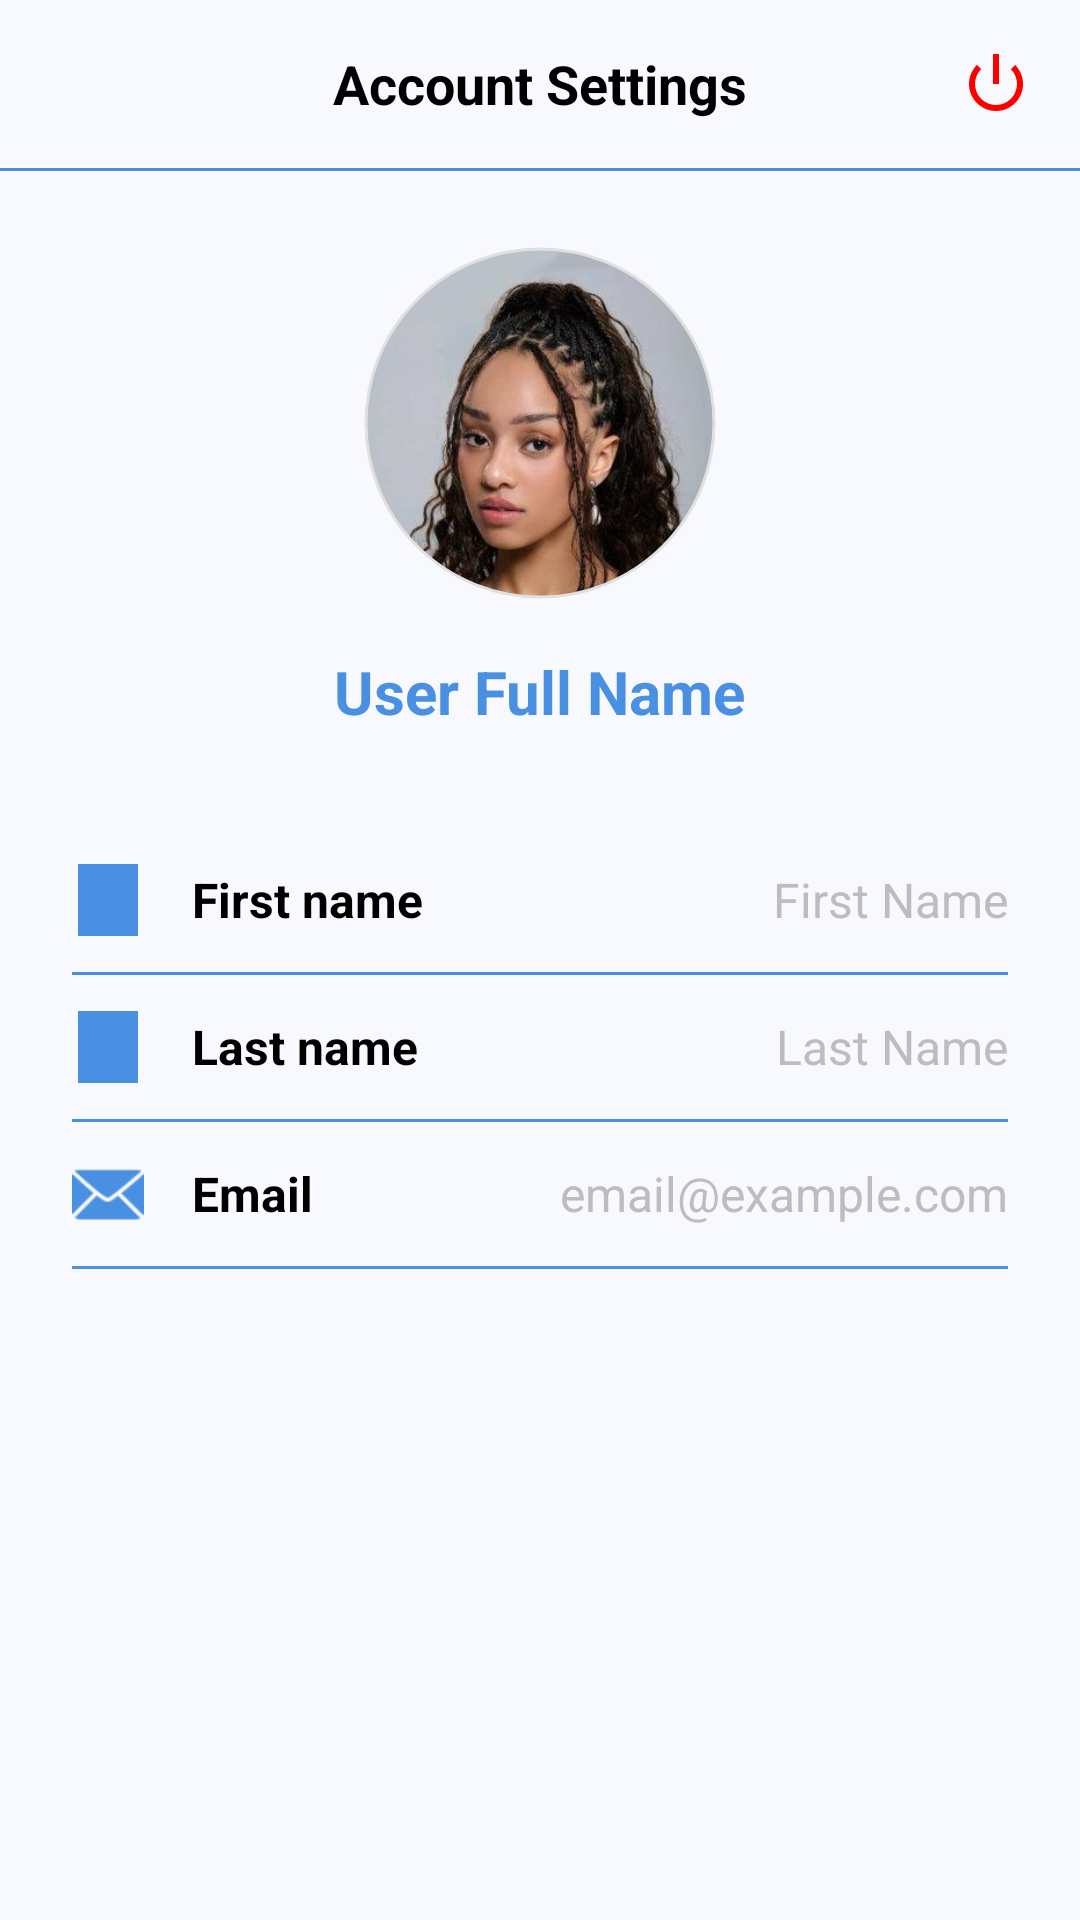

Where icons sit on this 1080px×1920px app screen, as rect(x1, y1, x2, y2):
lock power off: rect(969, 54, 1023, 111)
prrofile: rect(365, 248, 715, 598)
